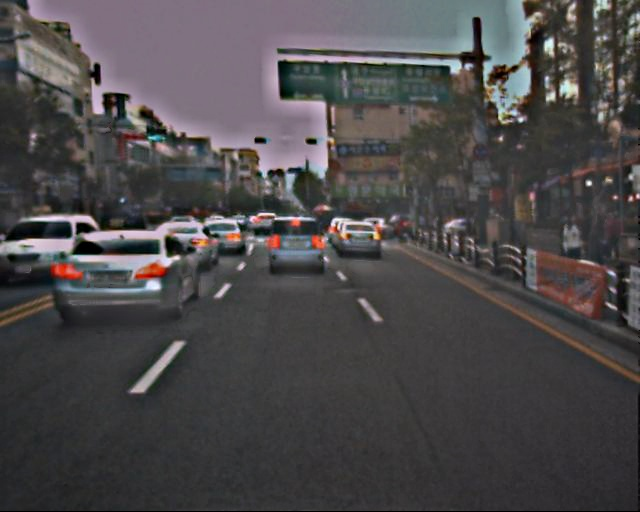person: (558, 215, 586, 283), (599, 208, 622, 263)
